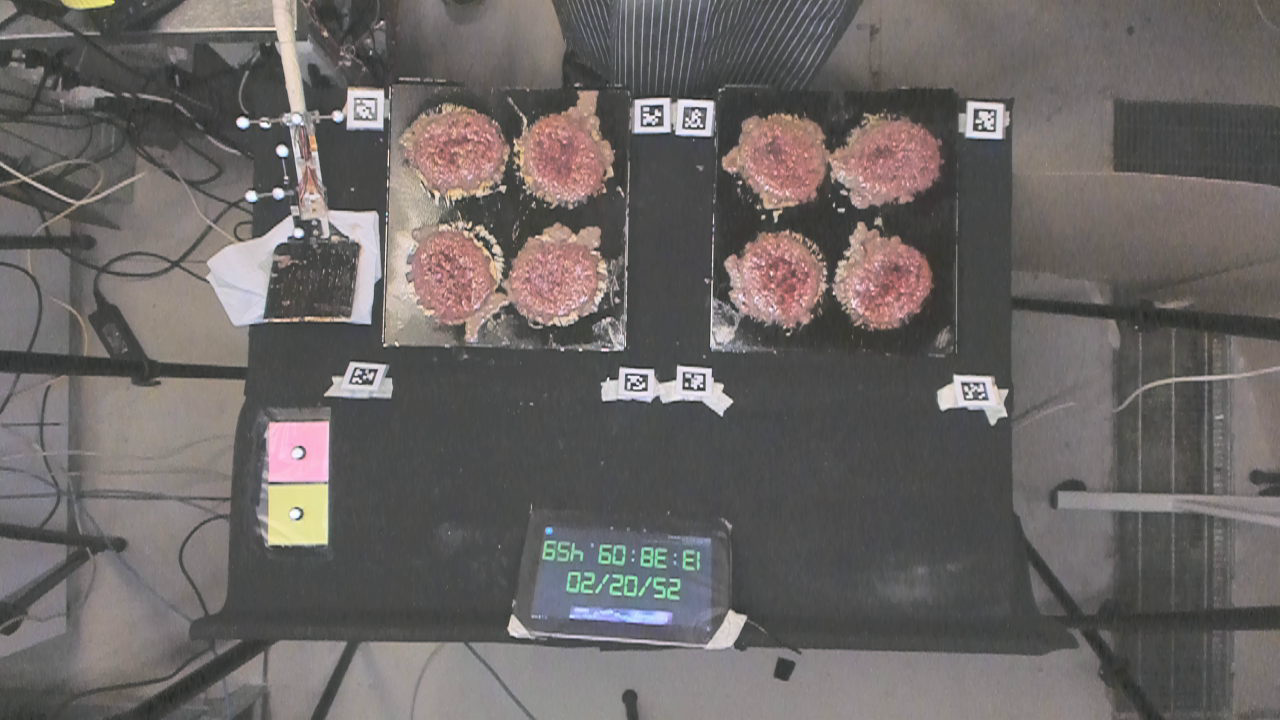hamburger: (416, 110, 505, 191), (411, 232, 490, 319), (737, 241, 822, 320), (737, 119, 819, 197), (512, 241, 597, 315), (855, 122, 935, 200), (848, 245, 924, 325), (527, 117, 600, 197)
marker: (268, 419, 329, 482)
